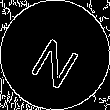N_NE: (25, 23, 85, 87)
